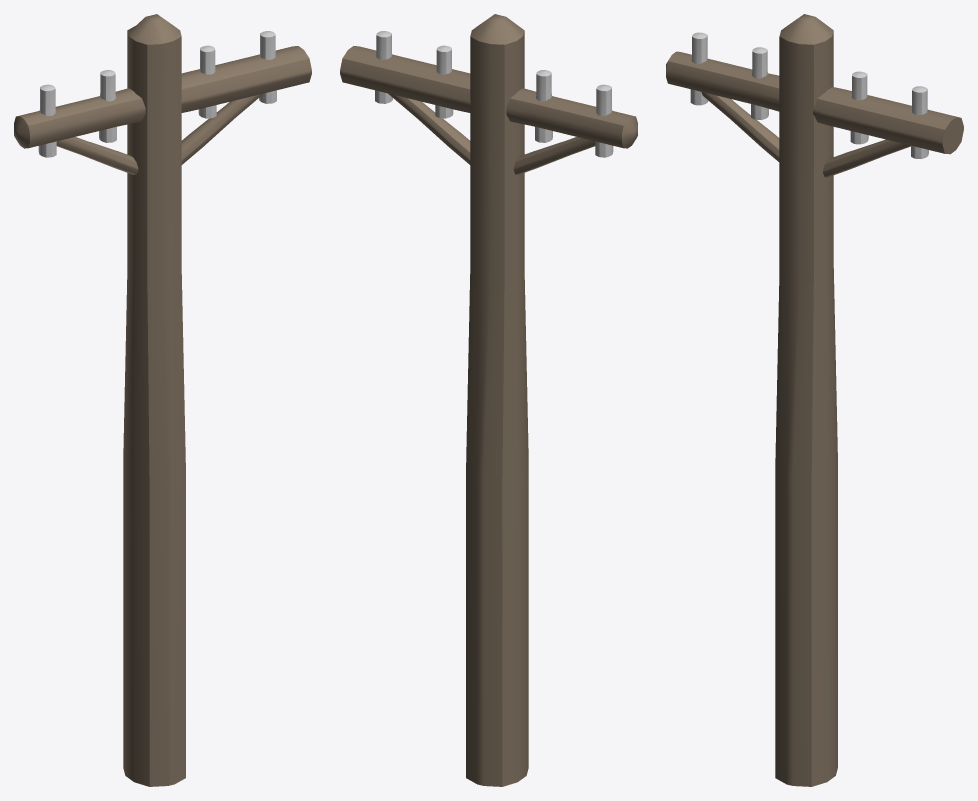
File: poste 1.fbx
3 views of the same model, side by side, from view 1: azimuth 30°, elevation 25°; view 2: azimuth 150°, elevation 25°; view 3: azimuth 330°, elevation 25° (orthographic).
Parts seen in each view (by area): view 1: polySurface4, polySurface5, polySurface10, polySurface7, polySurface6, polySurface3, polySurface9, polySurface8; view 2: polySurface4, polySurface5, polySurface10, polySurface7, polySurface6, polySurface3, polySurface9, polySurface8; view 3: polySurface4, polySurface5, polySurface7, polySurface10, polySurface3, polySurface6, polySurface9, polySurface8.
Part boxes in pixels (bbox=[...]): polySurface4: bbox=[123, 14, 185, 786]; polySurface5: bbox=[14, 46, 311, 148]; polySurface10: bbox=[181, 93, 263, 164]; polySurface7: bbox=[56, 137, 138, 174]; polySurface6: bbox=[38, 84, 56, 157]; polySurface3: bbox=[99, 70, 116, 142]; polySurface9: bbox=[198, 45, 216, 118]; polySurface8: bbox=[259, 31, 276, 103]; polySurface4: bbox=[466, 14, 528, 786]; polySurface5: bbox=[340, 46, 637, 148]; polySurface10: bbox=[388, 93, 470, 164]; polySurface7: bbox=[513, 137, 595, 174]; polySurface6: bbox=[595, 84, 613, 157]; polySurface3: bbox=[535, 70, 552, 142]; polySurface9: bbox=[435, 45, 453, 118]; polySurface8: bbox=[375, 31, 392, 103]; polySurface4: bbox=[775, 14, 837, 786]; polySurface5: bbox=[666, 51, 963, 154]; polySurface7: bbox=[701, 92, 779, 161]; polySurface10: bbox=[823, 139, 910, 177]; polySurface3: bbox=[751, 47, 768, 119]; polySurface6: bbox=[690, 32, 708, 105]; polySurface9: bbox=[850, 71, 868, 144]; polySurface8: bbox=[911, 86, 928, 158].
Bounding box in the file's own units: 1.97 × 4.98 × 0.4015.
